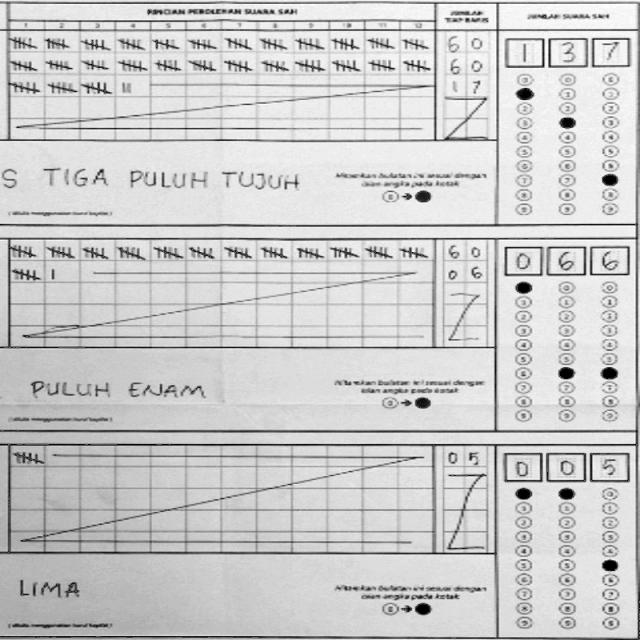Suara: (498, 240, 634, 278), (499, 446, 635, 484), (500, 34, 636, 71)
